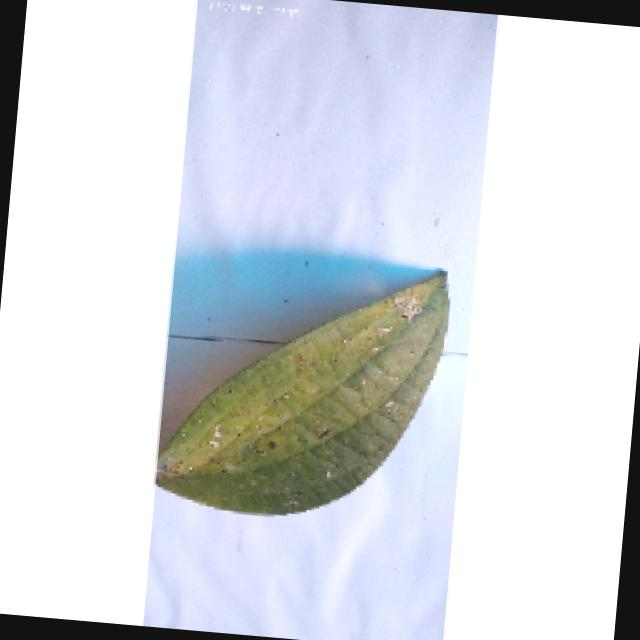slow-decline: (149, 244, 470, 546)
